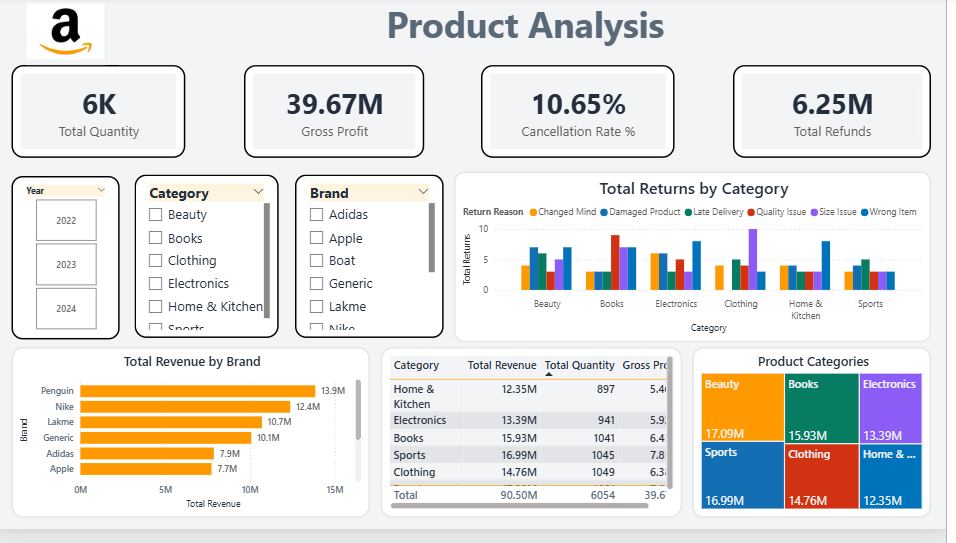

The dashboard page shown, as its layout file describes it:
{"tool":"powerbi","page":{"name":"Product Dashboard","canvas":[1280,720],"ordinal":1},"visuals":[{"type":"cardVisual","fields":{"Data":["measure table.Total Quantity"]},"box":[18.2,93.2,234.9,125.6],"z":0},{"type":"cardVisual","fields":{"Data":["measure table.Cancellation Rate %"]},"box":[652.8,93.2,261.3,125.6],"z":1000},{"type":"cardVisual","fields":{"Data":["measure table.Total Refunds"]},"box":[992.4,93.2,267.3,125.6],"z":2000},{"type":"cardVisual","fields":{"Data":["measure table.Gross Profit"]},"box":[331.5,93.2,243,125.6],"z":3000},{"type":"treemap","title":"Product Categories","fields":{"Group":["Products.Category"],"Values":["measure table.Total Revenue"]},"box":[937.7,473.9,322,230.9],"z":4000},{"type":"tableEx","fields":{"Values":["Products.Category","measure table.Total Revenue","measure table.Total Quantity","measure table.Gross Profit"]},"box":[516.5,473.9,407.1,230.9],"z":5000},{"type":"lineClusteredColumnComboChart","title":"Total Returns by Category ","fields":{"Category":["Products.Category"],"Y":["measure table.Total Returns"],"Series":["Returns.ReturnReason"]},"box":[615.7,237,644.1,230.9],"z":6000},{"type":"clusteredBarChart","fields":{"Category":["Products.Brand"],"Y":["measure table.Total Revenue"]},"box":[18.2,473.9,484.1,230.9],"z":7000},{"type":"slicer","fields":{"Values":["Products.Category"]},"box":[184.3,241,194.4,220.8],"z":8000},{"type":"slicer","fields":{"Values":["Products.Brand"]},"box":[401,241,200.5,220.8],"z":9000},{"type":"slicer","fields":{"Values":["DateTable.Year"]},"box":[18.2,243,145.8,220.8],"z":10000},{"type":"textbox","box":[164.1,0,1095.7,93.2],"z":11000},{"type":"image","box":[38.5,2,105.3,91.1],"z":12000}]}

Visuals, with their boxes in screenshot pixels (x1, y1, x2, y2), scaled from the page's 1280x720 canvas onto the 956x543 screenshot:
cardVisual - measure table.Total Quantity: rect(14, 70, 189, 165)
cardVisual - measure table.Cancellation Rate %: rect(488, 70, 683, 165)
cardVisual - measure table.Total Refunds: rect(741, 70, 941, 165)
cardVisual - measure table.Gross Profit: rect(248, 70, 429, 165)
"Product Categories" treemap: rect(700, 357, 941, 532)
tableEx - Products.Category x measure table.Total Revenue: rect(386, 357, 690, 532)
"Total Returns by Category " lineClusteredColumnComboChart: rect(460, 179, 941, 353)
clusteredBarChart - Products.Brand x measure table.Total Revenue: rect(14, 357, 375, 532)
slicer - Products.Category: rect(138, 182, 283, 348)
slicer - Products.Brand: rect(299, 182, 449, 348)
slicer - DateTable.Year: rect(14, 183, 122, 350)
textbox: rect(123, 0, 941, 70)
image: rect(29, 2, 107, 70)
